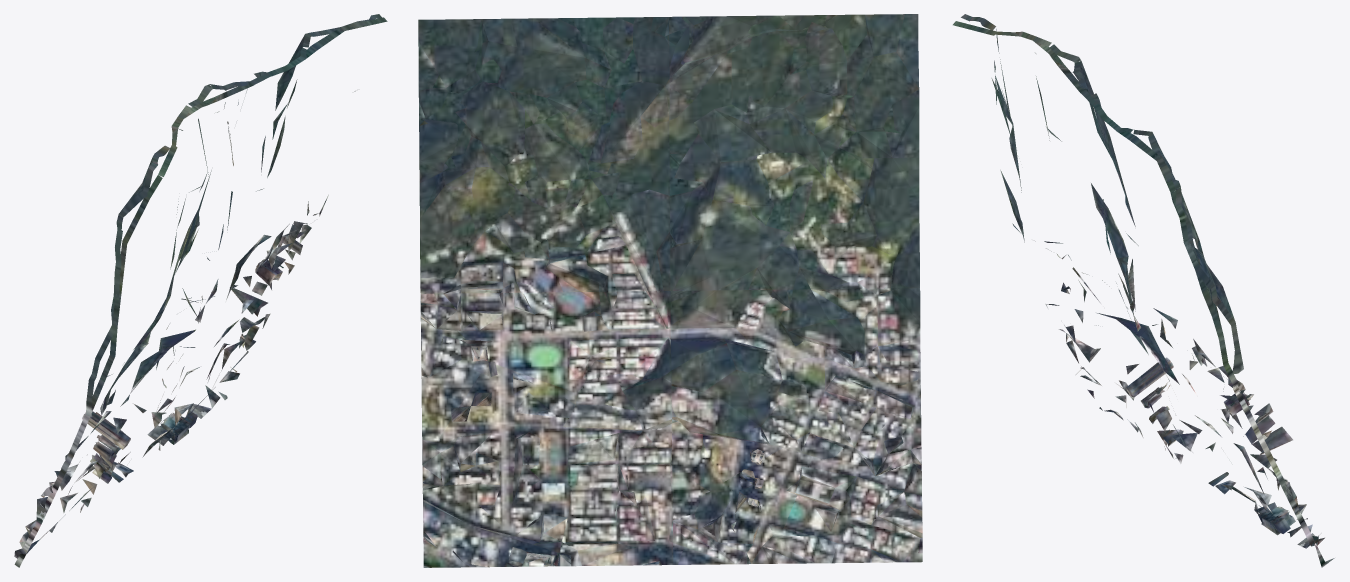
3 views of the same model, side by side, from view 1: azimuth 30°, elevation 25°; view 2: azimuth 150°, elevation 25°; view 3: azimuth 270°, elevation 25° (orthographic). The views are drawn at different scales.
Size of the model in its own units: 1182 by 1212 by 959.
2 materials, 2 textured.
